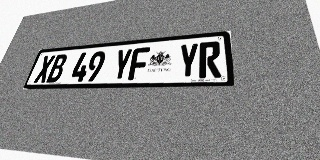4: (70, 52, 92, 82)
9: (84, 51, 107, 81)
B: (46, 54, 68, 83)
F: (128, 47, 150, 80)
R: (199, 41, 221, 78)
X: (33, 55, 56, 83)
Y: (177, 43, 199, 79), (111, 48, 133, 81)
